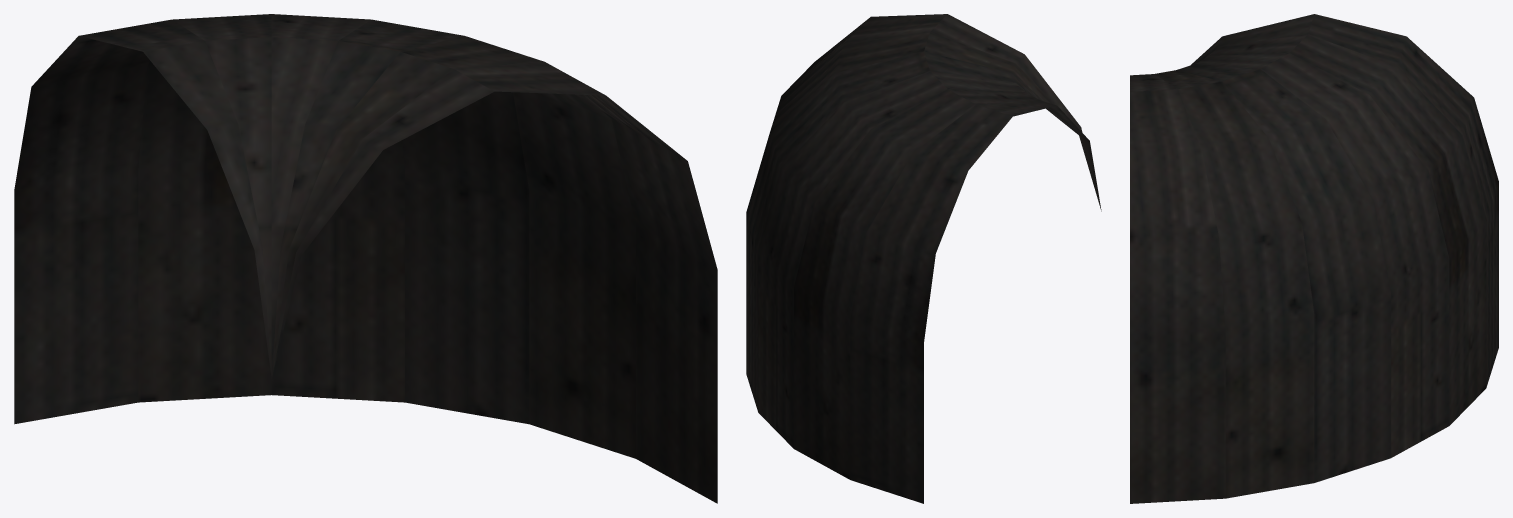
The model's file is tunnel_1_corner.fbx.
3 views of the same model, side by side, from view 1: azimuth 30°, elevation 25°; view 2: azimuth 150°, elevation 25°; view 3: azimuth 270°, elevation 25° (orthographic). The views are drawn at different scales.
Parts seen in each view (by area): view 1: tunnel_1_corner; view 2: tunnel_1_corner; view 3: tunnel_1_corner.
Boxes of the visible parts, x1,y1,x2,y2 form: tunnel_1_corner: (14, 14, 717, 503); tunnel_1_corner: (746, 14, 1101, 503); tunnel_1_corner: (1130, 14, 1498, 503).
Size of the model in its own units: 200 by 200 by 200.
